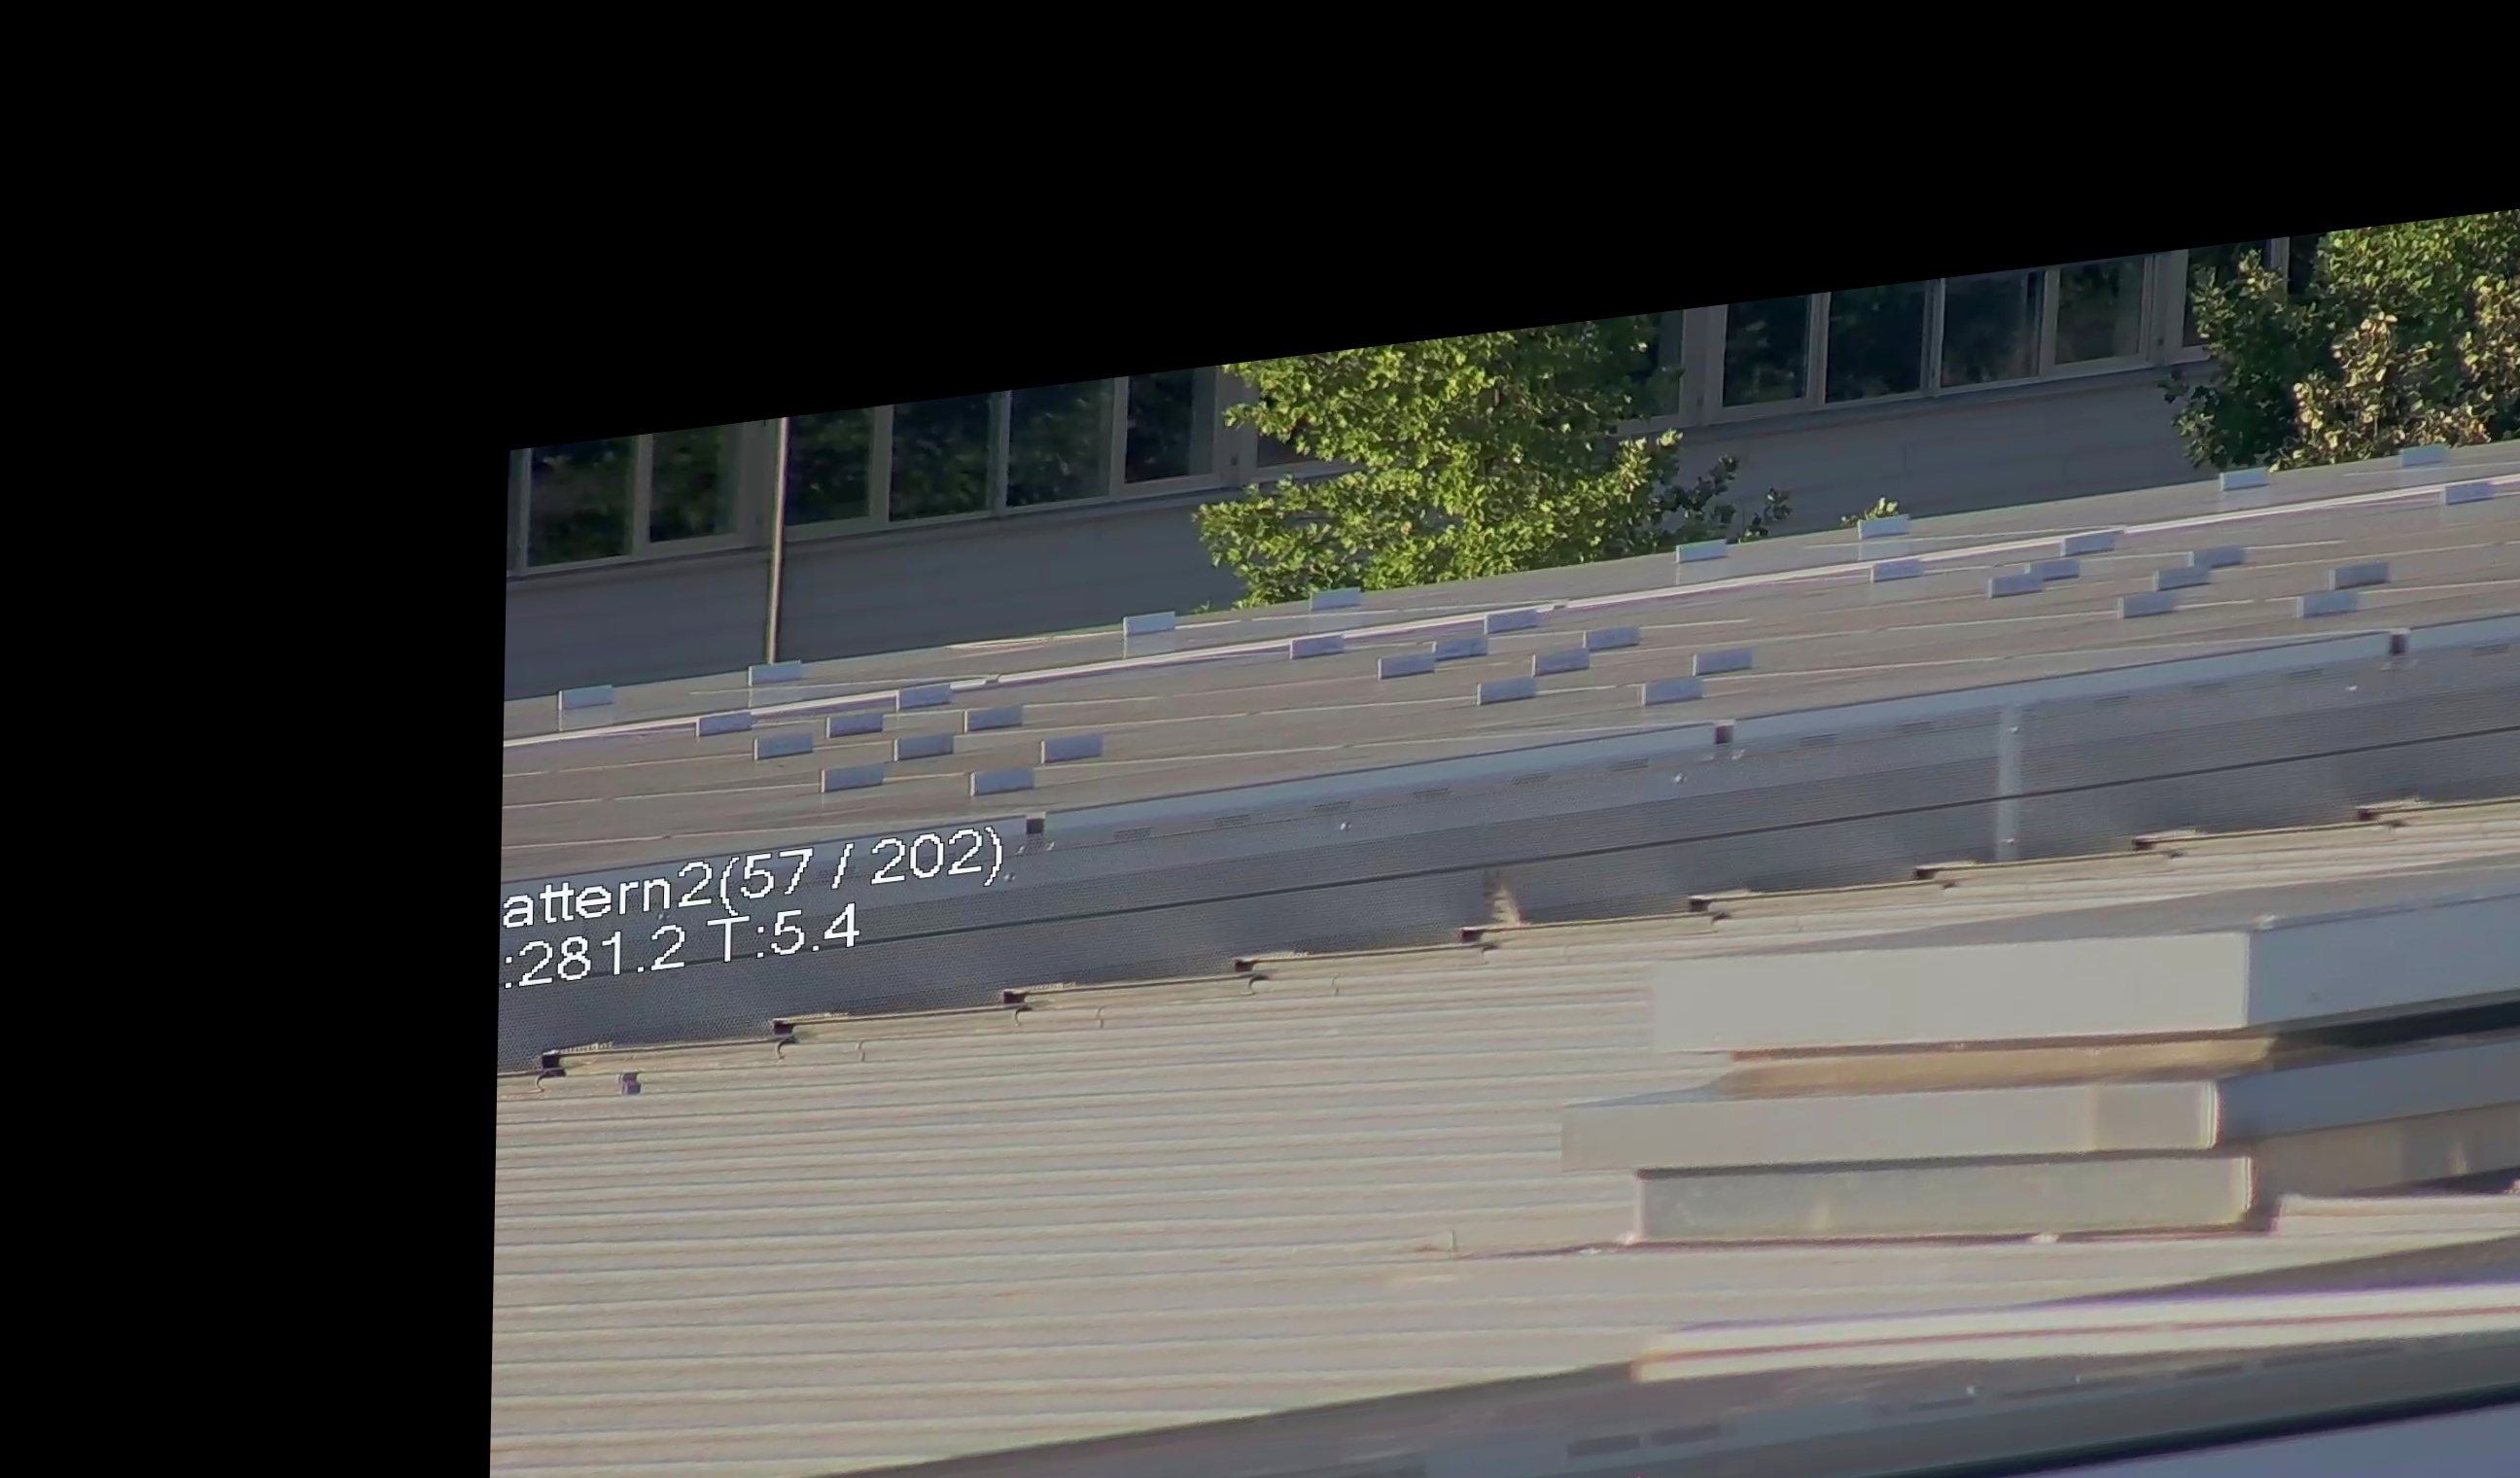Other: (1449, 853, 1525, 957)
